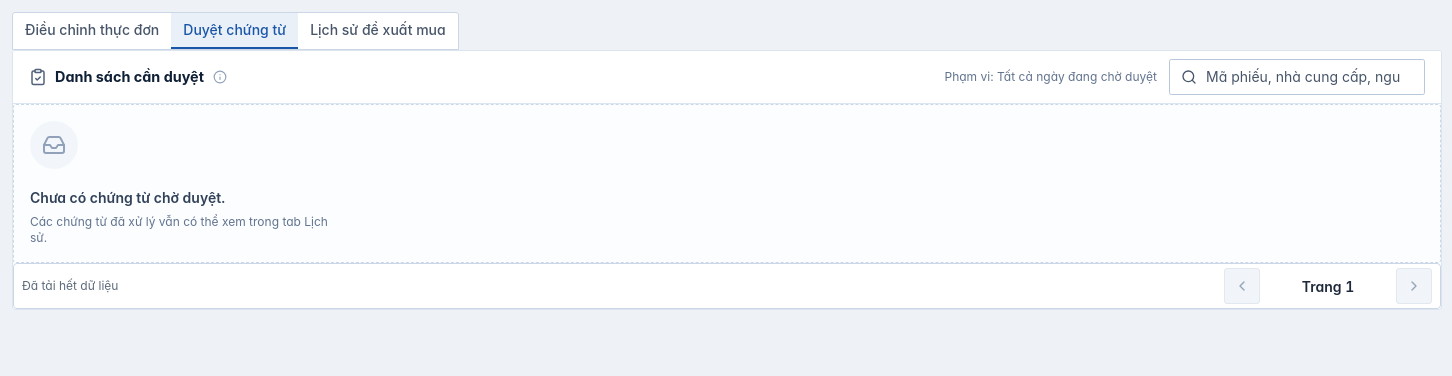
Test: ApprovalPage query state boundary › keeps approval history uninitialized until a purchase request is selected
The image size is (1452, 376).
Click the tab "Lịch sử đề xuất mua" at (378, 31), box [298,13,458,49]
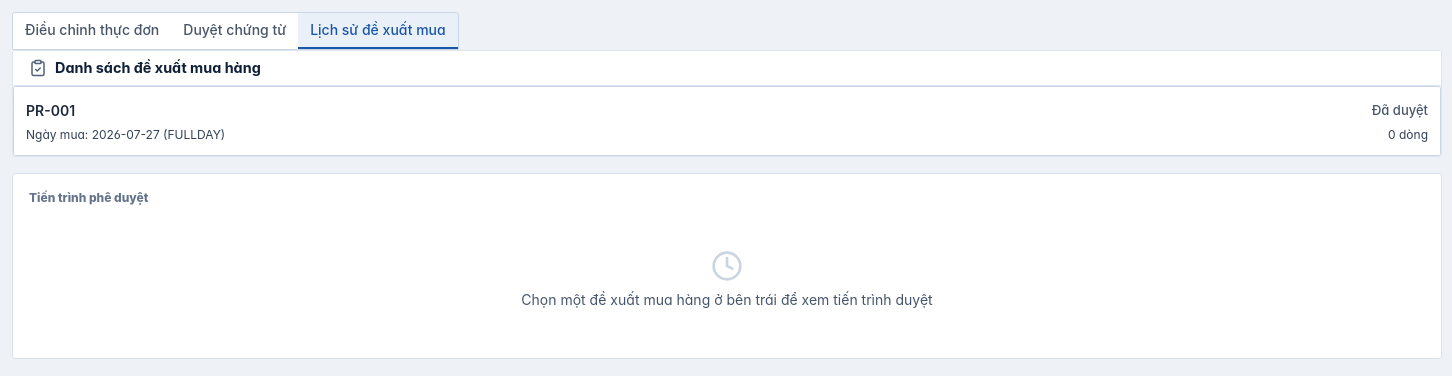
Result: the text "Chọn một đề xuất mua hàng ở bên trái để xem tiến trình duyệt" is shown at [521,290,933,310]
